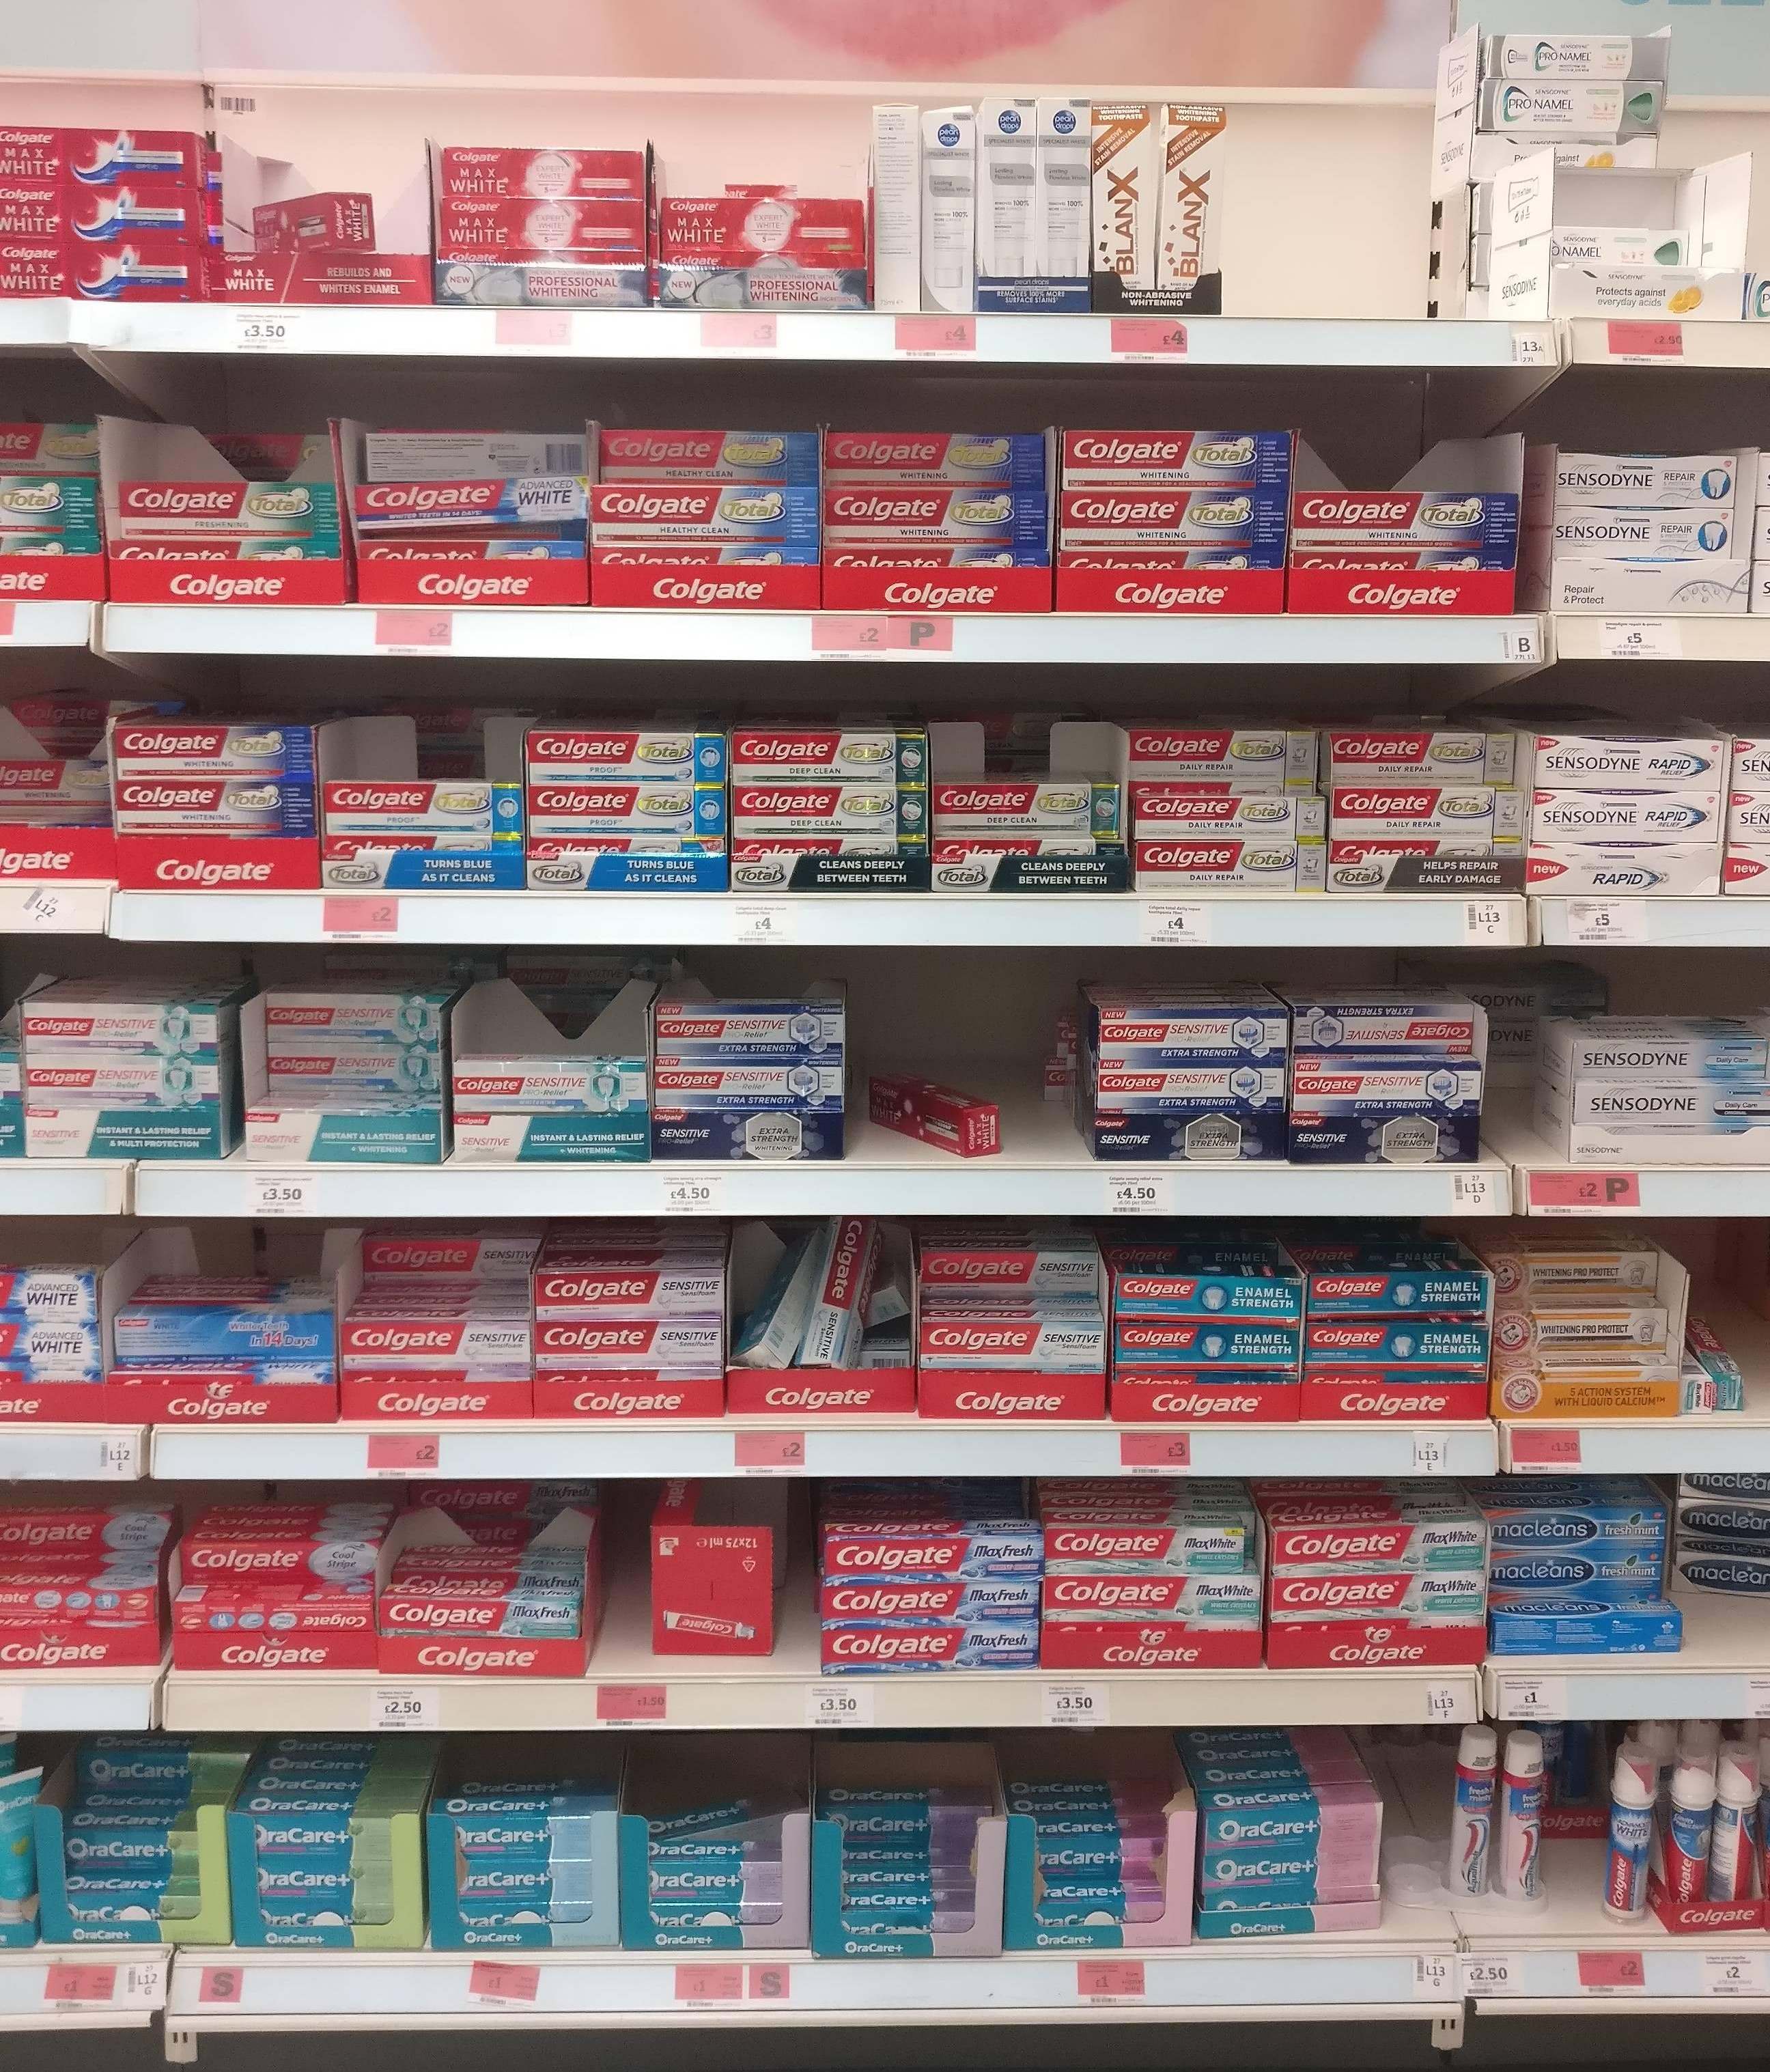empty: (1227, 116, 1422, 314)
misalignment: (730, 1227, 911, 1389), (860, 1083, 1032, 1169), (237, 193, 393, 255)
